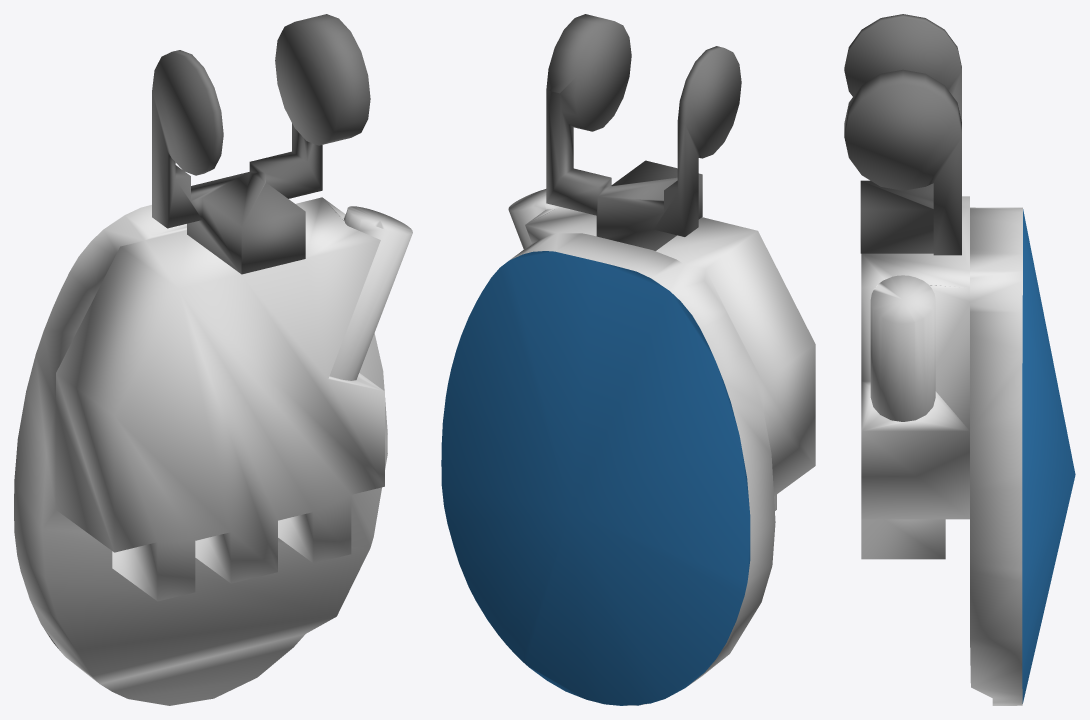
File: L_WRIST_R.dae
3 views of the same model, side by side, from view 1: azimuth 30°, elevation 25°; view 2: azimuth 150°, elevation 25°; view 3: azimuth 270°, elevation 25° (orthographic). The views are drawn at different scales.
Parts seen in each view (by area): view 1: ShapeIndexedFaceS_062, ShapeIndexedFaceS_063, ShapeIndexedFaceS_065; view 2: ShapeIndexedFaceS_064, ShapeIndexedFaceS_062, ShapeIndexedFaceS_063, ShapeIndexedFaceS_065; view 3: ShapeIndexedFaceS_062, ShapeIndexedFaceS_063, ShapeIndexedFaceS_064, ShapeIndexedFaceS_065.
Part boxes in pixels (bbox=[...]): ShapeIndexedFaceS_062: bbox=[14, 197, 387, 705]; ShapeIndexedFaceS_063: bbox=[152, 14, 370, 274]; ShapeIndexedFaceS_065: bbox=[329, 206, 412, 380]; ShapeIndexedFaceS_064: bbox=[441, 251, 750, 705]; ShapeIndexedFaceS_062: bbox=[510, 207, 815, 705]; ShapeIndexedFaceS_063: bbox=[546, 14, 741, 250]; ShapeIndexedFaceS_065: bbox=[508, 189, 559, 249]; ShapeIndexedFaceS_062: bbox=[861, 196, 1022, 705]; ShapeIndexedFaceS_063: bbox=[844, 14, 961, 255]; ShapeIndexedFaceS_064: bbox=[1022, 209, 1075, 703]; ShapeIndexedFaceS_065: bbox=[870, 275, 935, 421].
Bounding box in the file's own units: 0.0914 × 0.057 × 0.1759.
